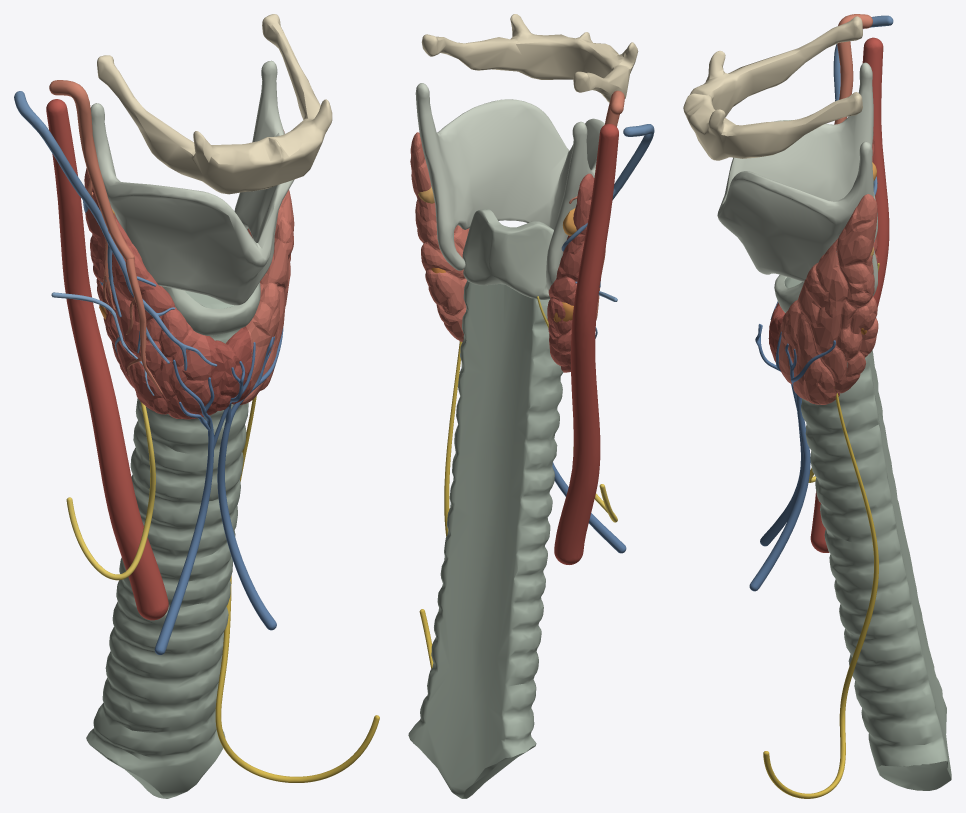
The model's file is thyroid.glb.
3 views of the same model, side by side, from view 1: azimuth 30°, elevation 25°; view 2: azimuth 150°, elevation 25°; view 3: azimuth 270°, elevation 25° (orthographic). The views are drawn at different scales.
Parts seen in each view (by area): view 1: trachea, thyroid-cartilage, common-carotid-artery, hyoid-bone, right-lobe, inferior-thyroid-veins, left-lobe, superior-thyroid-artery, superior-thyroid-vein, isthmus, left-recurrent-laryngeal-nerve, cricoid-cartilage (+2 smaller); view 2: trachea, thyroid-cartilage, common-carotid-artery, hyoid-bone, cricoid-cartilage, left-lobe, right-lobe, left-recurrent-laryngeal-nerve, superior-thyroid-vein, inferior-thyroid-veins, superior-thyroid-artery; view 3: trachea, thyroid-cartilage, left-lobe, hyoid-bone, common-carotid-artery, inferior-thyroid-veins, left-recurrent-laryngeal-nerve, superior-thyroid-artery, superior-thyroid-vein, cricoid-cartilage, isthmus.
Part boxes in pixels (box(x1,y1,x2,y2)): trachea: box(86, 290, 251, 798); thyroid-cartilage: box(90, 60, 294, 305); common-carotid-artery: box(46, 99, 168, 620); hyoid-bone: box(97, 14, 332, 194); right-lobe: box(84, 168, 211, 419); inferior-thyroid-veins: box(154, 328, 283, 654); left-lobe: box(241, 130, 294, 404); superior-thyroid-artery: box(49, 80, 162, 394); superior-thyroid-vein: box(14, 91, 217, 370); isthmus: box(202, 326, 251, 416); left-recurrent-laryngeal-nerve: box(215, 396, 379, 782); cricoid-cartilage: box(162, 228, 260, 335); trachea: box(408, 280, 563, 798); thyroid-cartilage: box(415, 83, 604, 290); common-carotid-artery: box(554, 123, 618, 564); hyoid-bone: box(421, 14, 638, 102); cricoid-cartilage: box(462, 209, 553, 299); left-lobe: box(410, 132, 469, 341); right-lobe: box(547, 173, 594, 372); left-recurrent-laryngeal-nerve: box(419, 341, 462, 668); superior-thyroid-vein: box(561, 124, 654, 287); inferior-thyroid-veins: box(552, 462, 626, 553); superior-thyroid-artery: box(569, 90, 624, 319); trachea: box(784, 277, 951, 790); thyroid-cartilage: box(717, 62, 877, 295); left-lobe: box(778, 194, 878, 404); hyoid-bone: box(683, 16, 862, 160); common-carotid-artery: box(810, 37, 889, 552); inferior-thyroid-veins: box(749, 324, 835, 591); left-recurrent-laryngeal-nerve: box(763, 387, 878, 798); superior-thyroid-artery: box(834, 14, 872, 124); superior-thyroid-vein: box(770, 15, 893, 319); cricoid-cartilage: box(774, 275, 803, 312); isthmus: box(768, 303, 791, 383).
Bounding box in the file's own units: 1.58 × 3.89 × 1.29.
